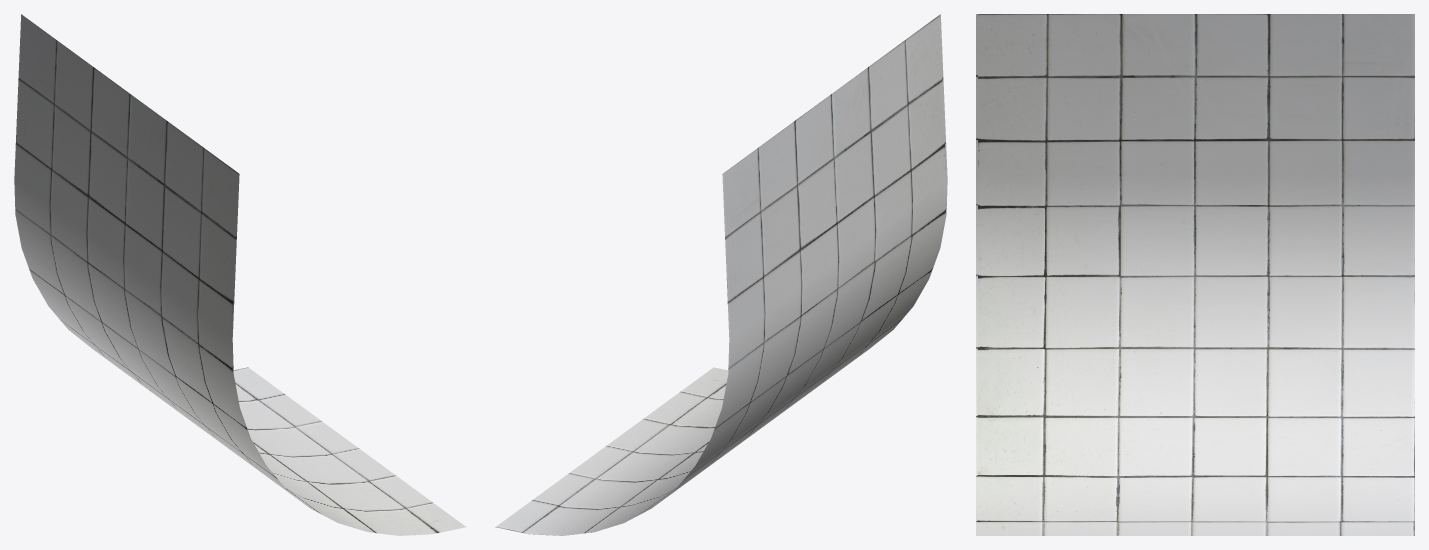
Rendered from background.fbx.
3 renders of one model, left to right at view 1: azimuth 30°, elevation 25°; view 2: azimuth 150°, elevation 25°; view 3: azimuth 270°, elevation 25°, orthographic.
Parts seen in each view (by area): view 1: Cube; view 2: Cube; view 3: Cube.
Boxes of the visible parts, x1=… form: Cube: x1=14, y1=14, x2=466, y2=535; Cube: x1=495, y1=14, x2=947, y2=535; Cube: x1=976, y1=14, x2=1414, y2=535.
Bounding box in the file's own units: 1237 × 2065 × 2000.
